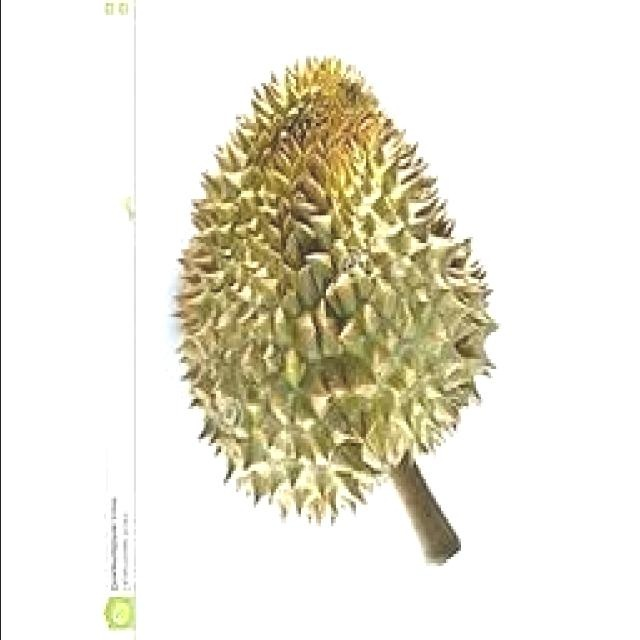agrume: (163, 40, 525, 574)
